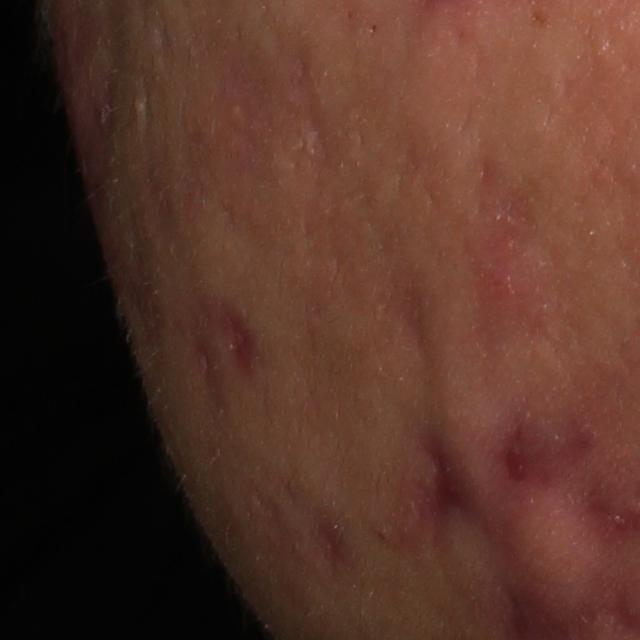atrophic_scar: (457, 160, 552, 349), (175, 290, 262, 413), (387, 273, 441, 391), (285, 56, 335, 171), (504, 426, 594, 484), (430, 429, 475, 545), (303, 509, 363, 580)
